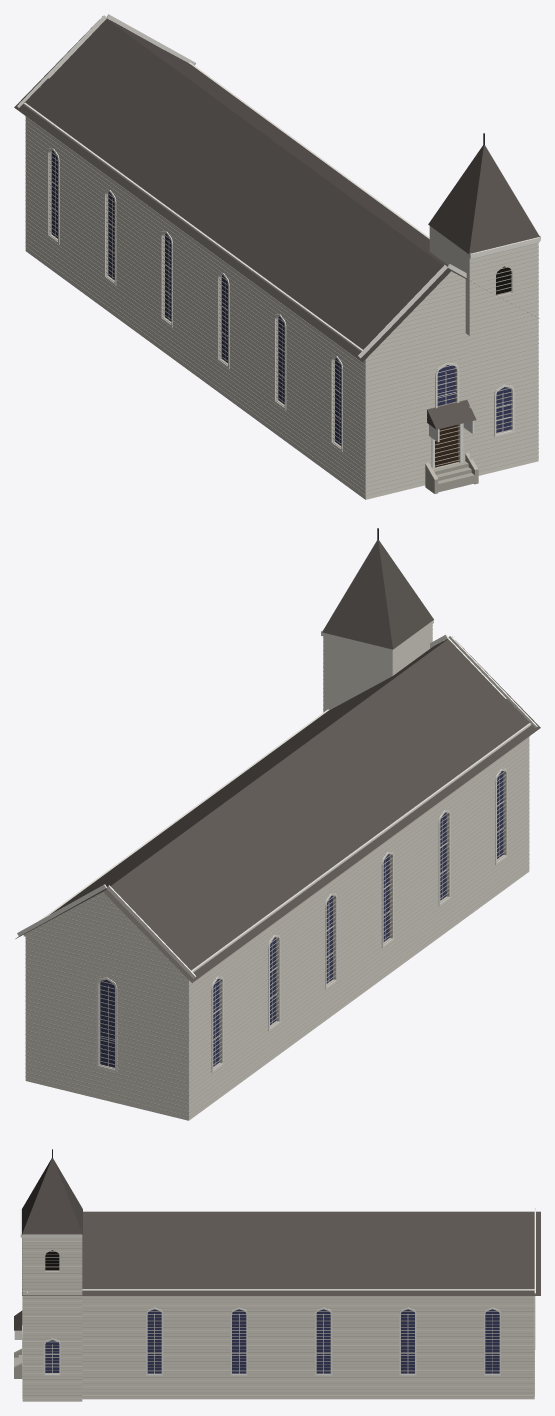
The model's file is ch-first-christian-argenta-1961.glb.
3 views of the same model, one above another, from view 1: azimuth 30°, elevation 25°; view 2: azimuth 150°, elevation 25°; view 3: azimuth 270°, elevation 25° (orthographic). The views are drawn at different scales.
Visible parts, largest first — view 1: ch_brick, ch_roof, ch_brick2, ch_trim, ch_roof2, ch_stain, ch_conc, ch_door; view 2: ch_brick, ch_roof, ch_brick2, ch_trim, ch_roof2, ch_stain; view 3: ch_brick, ch_roof, ch_brick2, ch_stain, ch_trim, ch_roof2.
Part boxes in pixels (left/top/right/bottom): ch_brick: left=25, top=117, right=538, bottom=499; ch_roof: left=14, top=16, right=539, bottom=362; ch_brick2: left=25, top=54, right=538, bottom=495; ch_trim: left=17, top=14, right=540, bottom=469; ch_roof2: left=427, top=145, right=539, bottom=429; ch_stain: left=51, top=150, right=510, bottom=445; ch_conc: left=425, top=453, right=478, bottom=493; ch_door: left=435, top=424, right=458, bottom=467; ch_brick: left=25, top=621, right=529, bottom=1120; ch_roof: left=15, top=636, right=540, bottom=982; ch_brick2: left=25, top=625, right=529, bottom=1116; ch_trim: left=17, top=618, right=537, bottom=1072; ch_roof2: left=322, top=540, right=433, bottom=649; ch_stain: left=100, top=771, right=503, bottom=1067; ch_brick: left=22, top=1239, right=534, bottom=1401; ch_roof: left=22, top=1211, right=540, bottom=1295; ch_brick2: left=22, top=1235, right=534, bottom=1398; ch_stain: left=45, top=1309, right=499, bottom=1373; ch_trim: left=14, top=1208, right=535, bottom=1375; ch_roof2: left=14, top=1158, right=82, bottom=1330.
Bounding box in the file's own units: 9.84 × 16.95 × 33.6.
